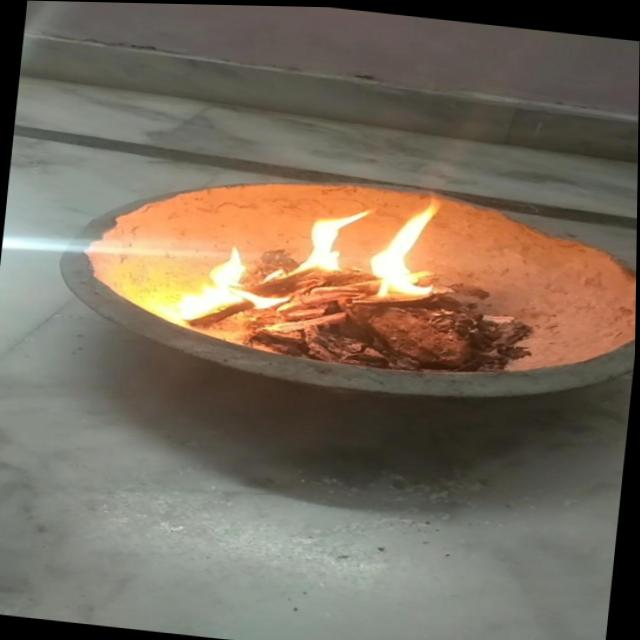fire: (272, 187, 457, 312), (161, 237, 276, 329)
